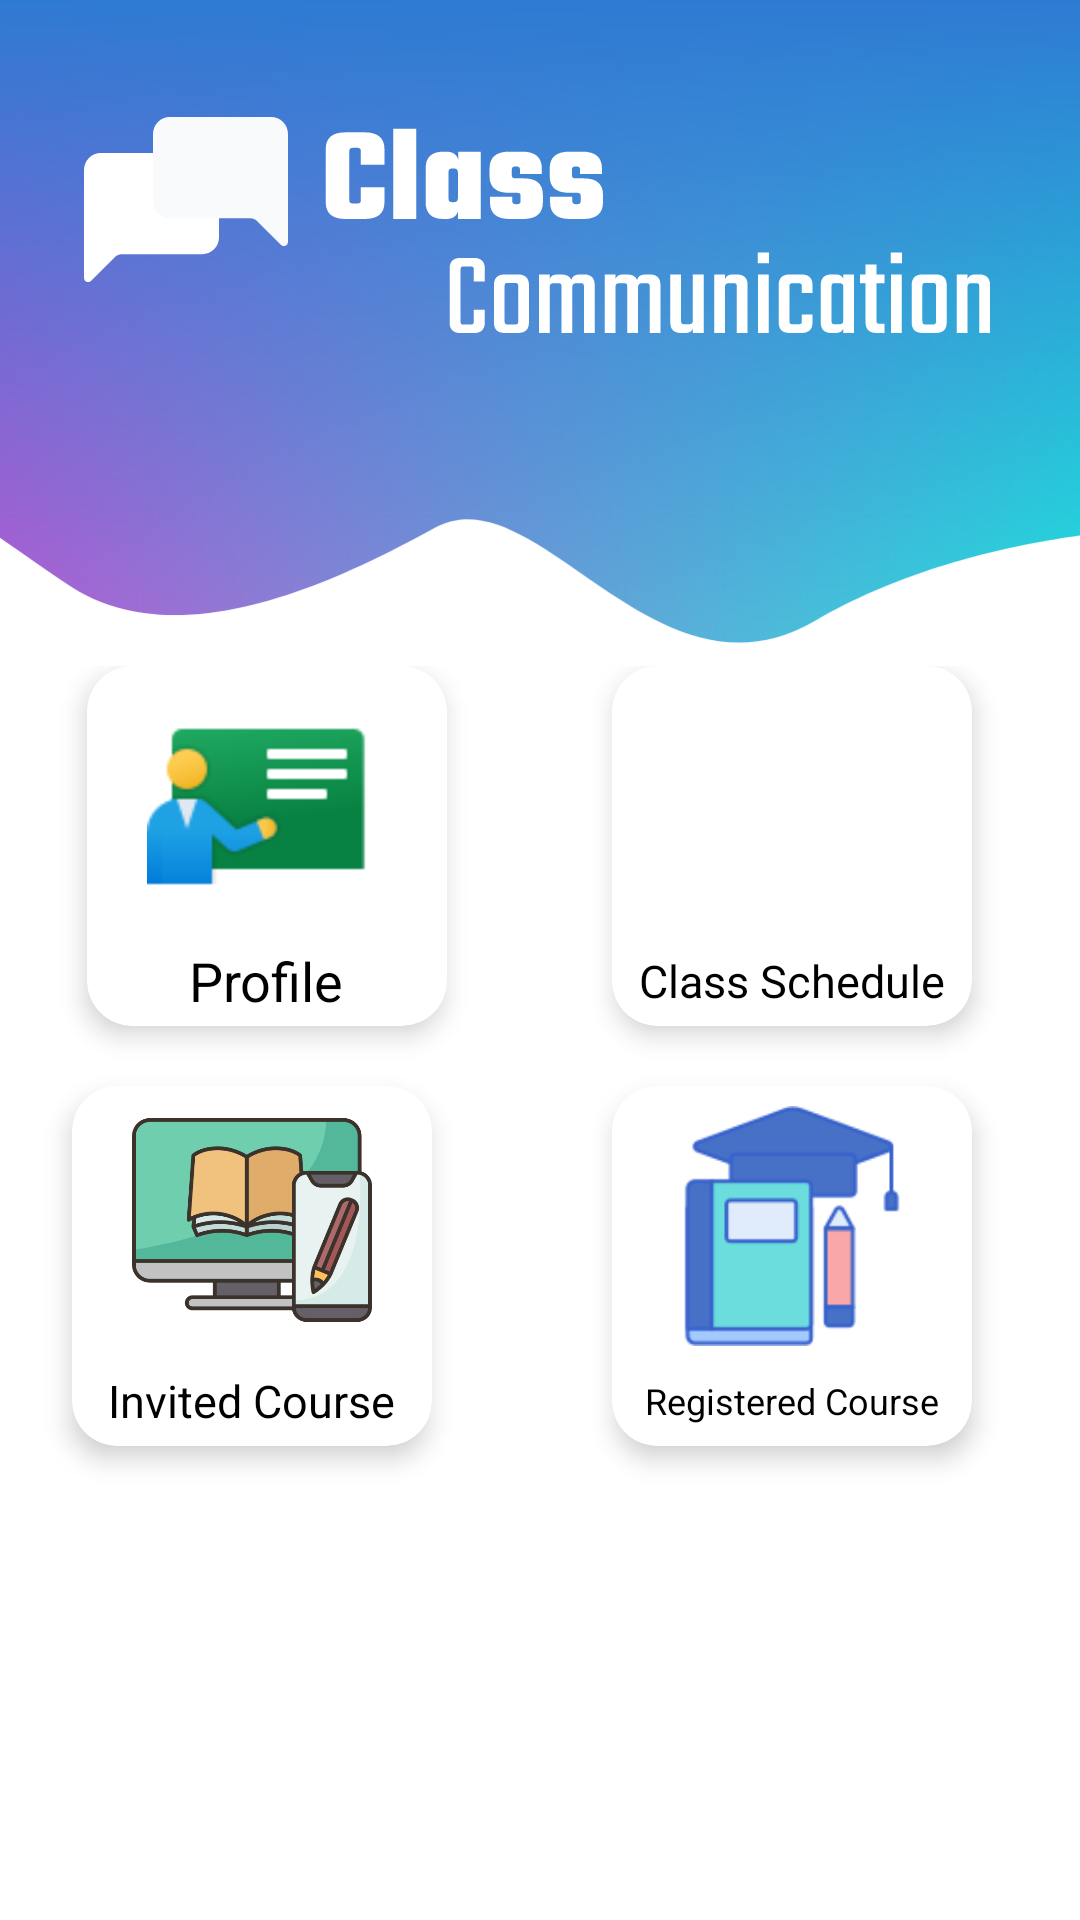

Icon bounding boxes for this 1080px×1920px phone screenshot, format (x1, y1, x2, y2):
teacher: (147, 728, 365, 885)
